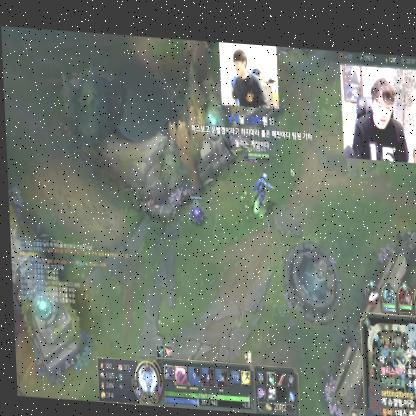donation: (185, 36, 315, 151)
streamer: (348, 69, 409, 158)
